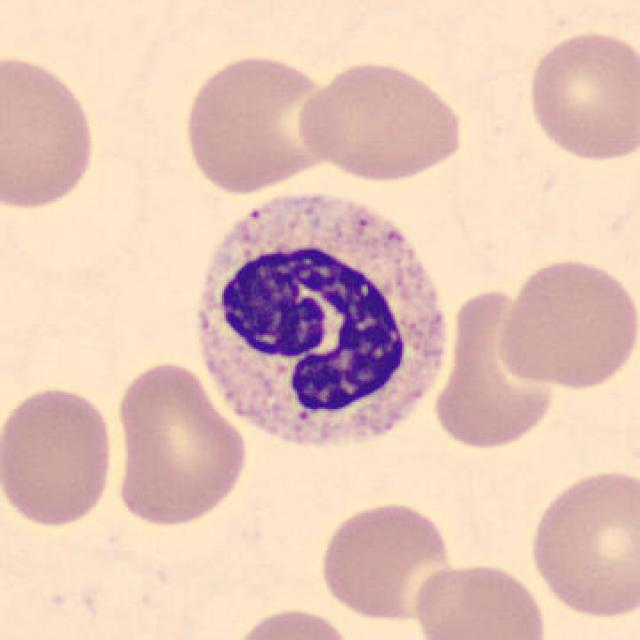Neutrophil: (181, 182, 459, 467)
RBC: (108, 358, 250, 531), (178, 49, 340, 198), (294, 57, 468, 185), (492, 254, 638, 393), (438, 287, 558, 452), (524, 462, 638, 624), (314, 497, 458, 624), (2, 381, 119, 531), (0, 50, 100, 214), (523, 25, 638, 164), (409, 557, 551, 640), (227, 604, 359, 640)
